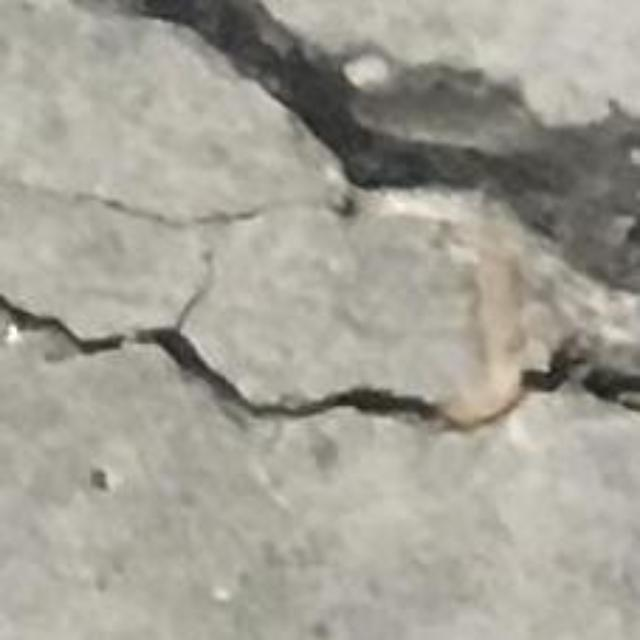crack: (0, 0, 639, 431)
